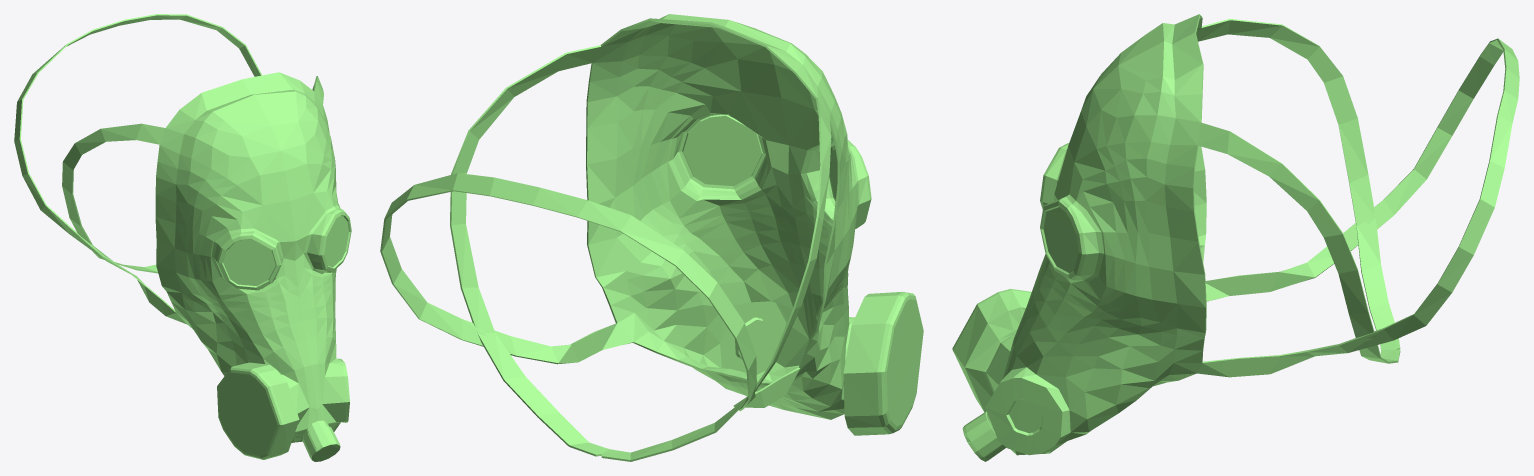
The model's file is Gas Mask.FBX.
3 renders of one model, left to right at view 1: azimuth 30°, elevation 25°; view 2: azimuth 150°, elevation 25°; view 3: azimuth 270°, elevation 25°, orthographic. The views are drawn at different scales.
Visible parts, largest first — view 1: Object002; view 2: Object002; view 3: Object002.
Part boxes in pixels (x1,y1,x2,y2): Object002: [14, 14, 351, 461]; Object002: [380, 14, 923, 461]; Object002: [952, 14, 1519, 461].
Size of the model in its own units: 9.74 by 12.25 by 14.73.
